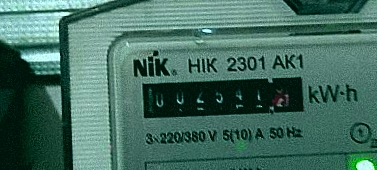0: (151, 87, 165, 108), (172, 84, 185, 105)
1: (251, 82, 263, 102)
2: (192, 84, 205, 105)
4: (232, 82, 245, 103)
5: (211, 82, 224, 105)
6: (273, 93, 285, 109)
screen: (131, 66, 314, 127)
